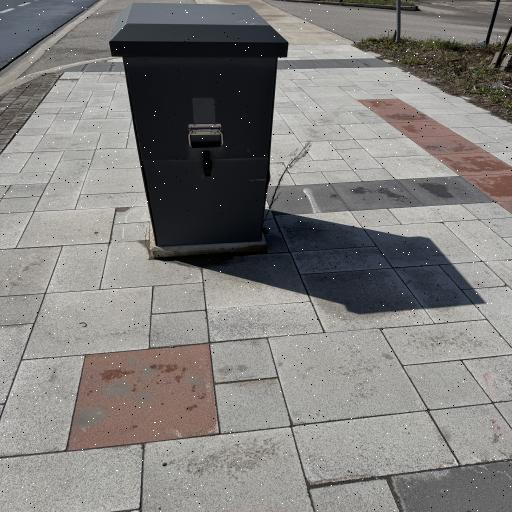Electrical Box: (107, 3, 289, 246)
